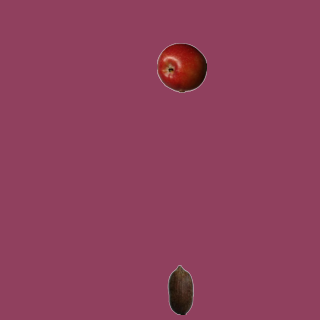Apple Braeburn: (156, 42, 206, 92)
Nut Pecan: (155, 264, 205, 314)
